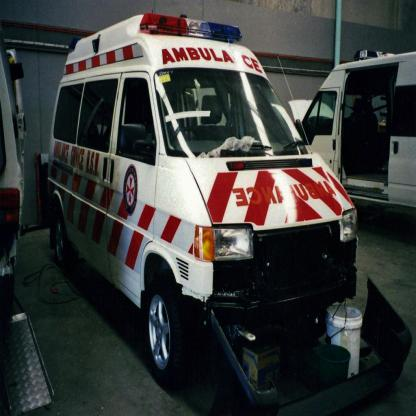Ambulance: (47, 1, 413, 416), (287, 47, 415, 210)
